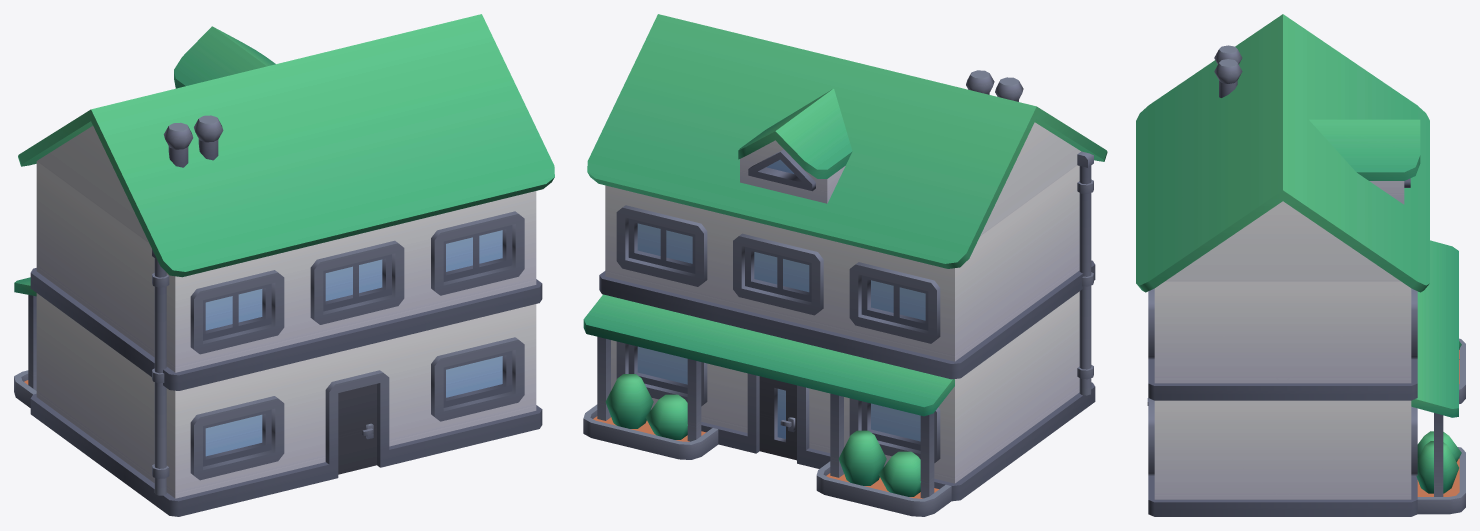
The model's file is house-e.glb.
3 renders of one model, left to right at view 1: azimuth 30°, elevation 25°; view 2: azimuth 150°, elevation 25°; view 3: azimuth 270°, elevation 25°, orthographic. The views are drawn at different scales.
Visible parts, largest first — view 1: building-type-e; view 2: building-type-e; view 3: building-type-e.
Boxes of the visible parts, x1=… form: building-type-e: x1=14, y1=14, x2=554, y2=516; building-type-e: x1=583, y1=14, x2=1107, y2=516; building-type-e: x1=1136, y1=14, x2=1465, y2=516.
Bounding box in the file's own units: 1.3 × 1.14 × 1.03.
1 material, 1 textured.
